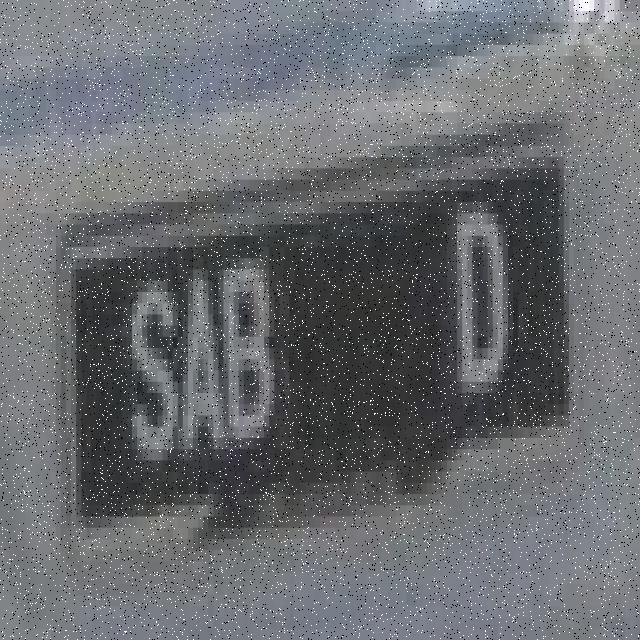licenseplate: (54, 96, 591, 554)
